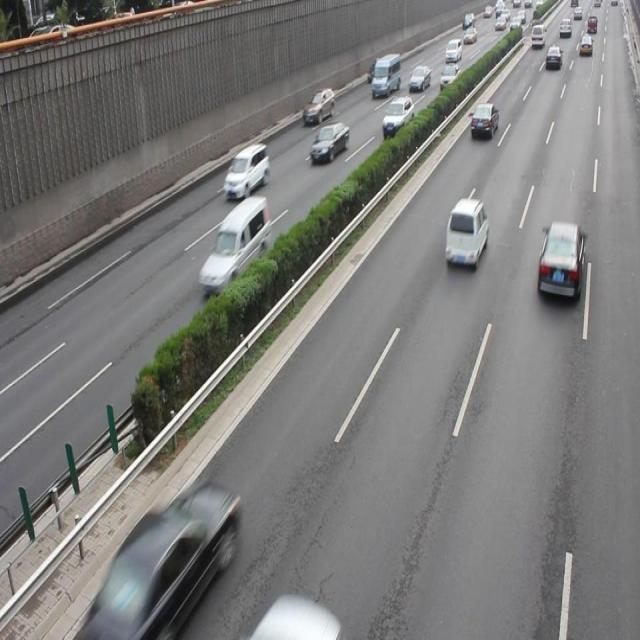car: (98, 484, 235, 640), (536, 222, 584, 304), (310, 120, 349, 162), (381, 95, 414, 137), (302, 86, 335, 125), (469, 102, 498, 140)
truck: (197, 195, 270, 294), (443, 196, 488, 269), (222, 143, 268, 198)
